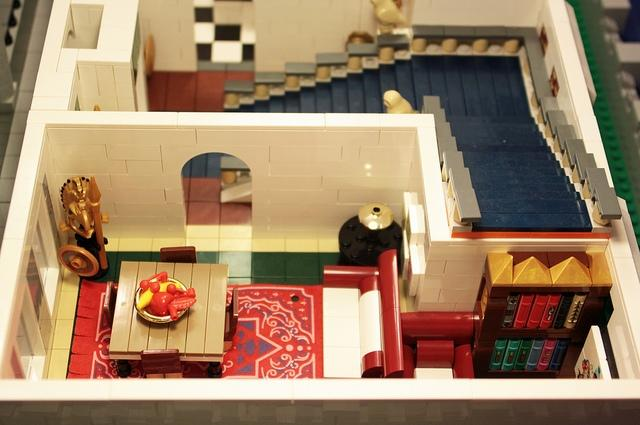banana: (136, 282, 182, 310)
